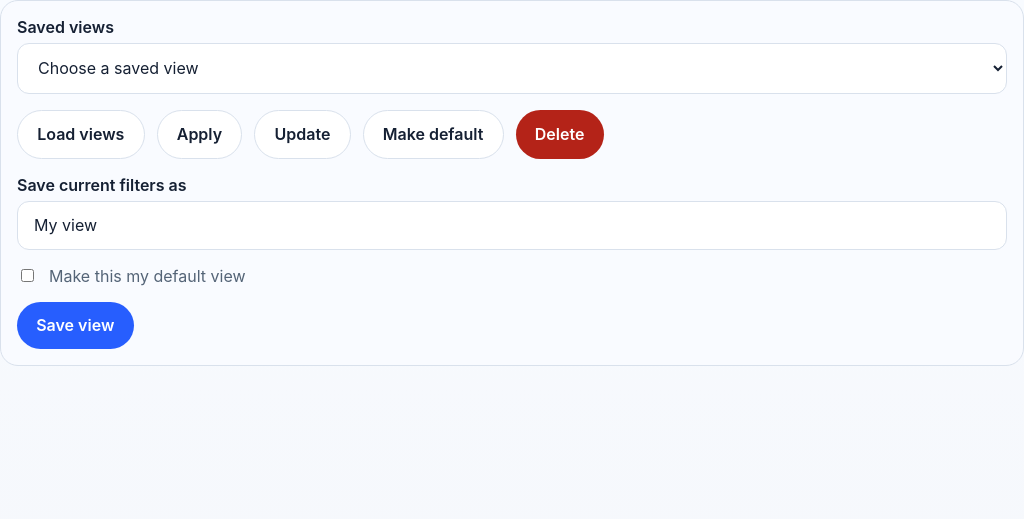
Scenario: SavedViews › uses the selected exact revision for update and delete
This screenshot has width=1024, height=519.
Click the button "Load views": click(81, 134) [17,110,144,159]
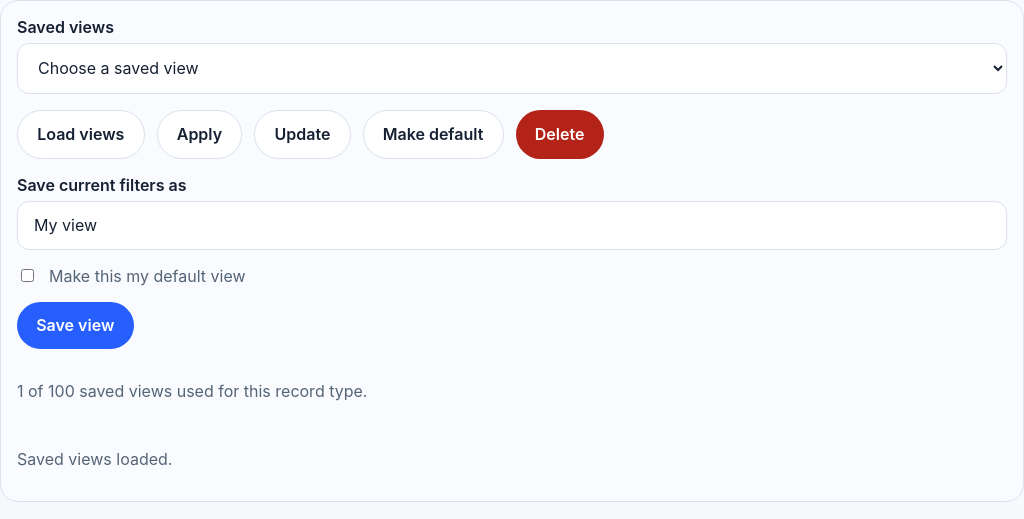
Select "Reviewed leads" in the dropdown labelled "Saved views": (512, 68) [17,43,1007,94]
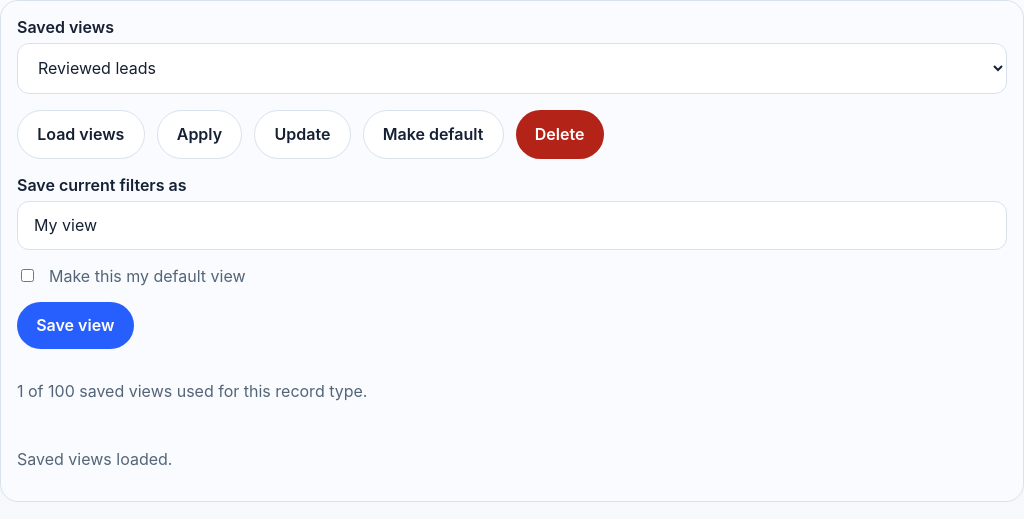
Click the button "Update": click(302, 134) [254,110,351,159]
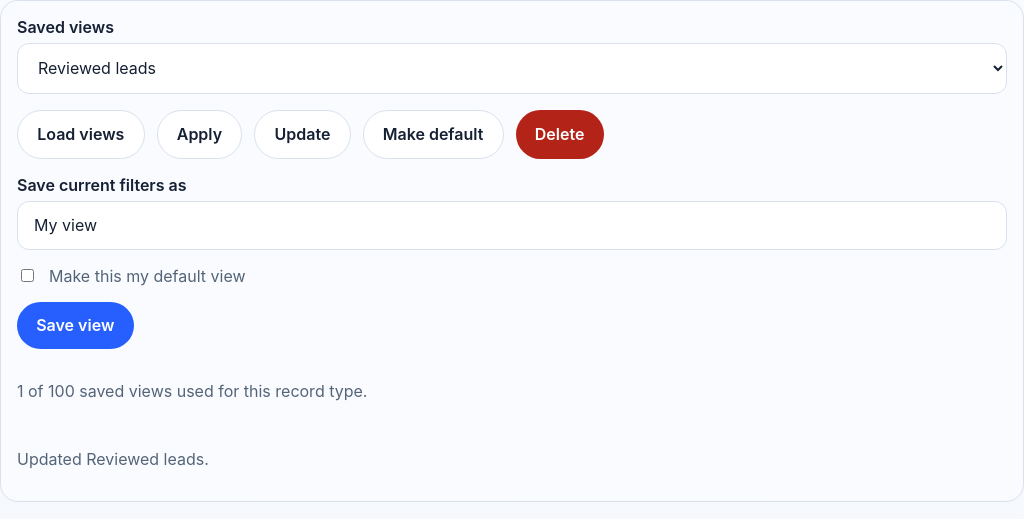
Check: the text "Updated Reviewed leads." is shown, box [17,449,209,469]
Click the button "Delete": click(560, 134) [516,110,604,159]
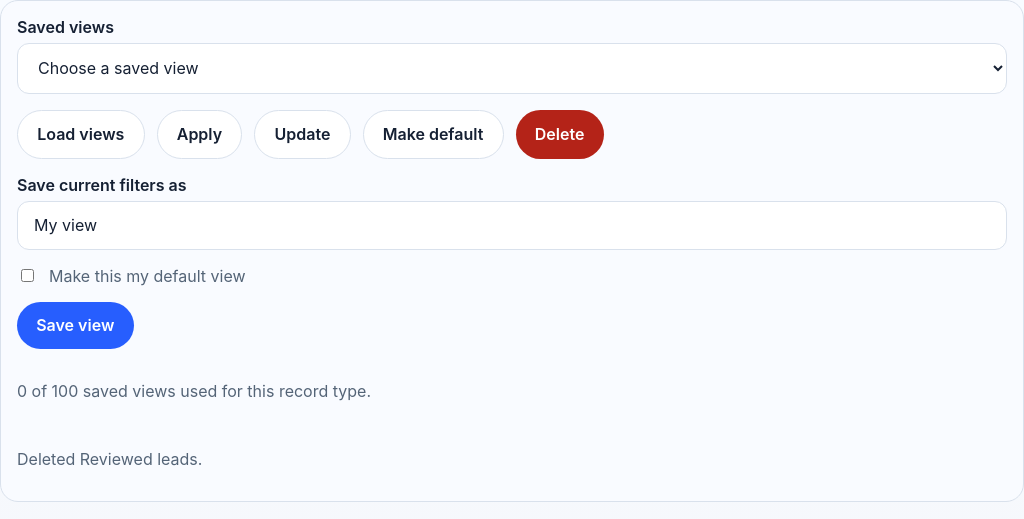
Check: the text "Deleted Reviewed leads." is shown, box [17,449,202,469]
